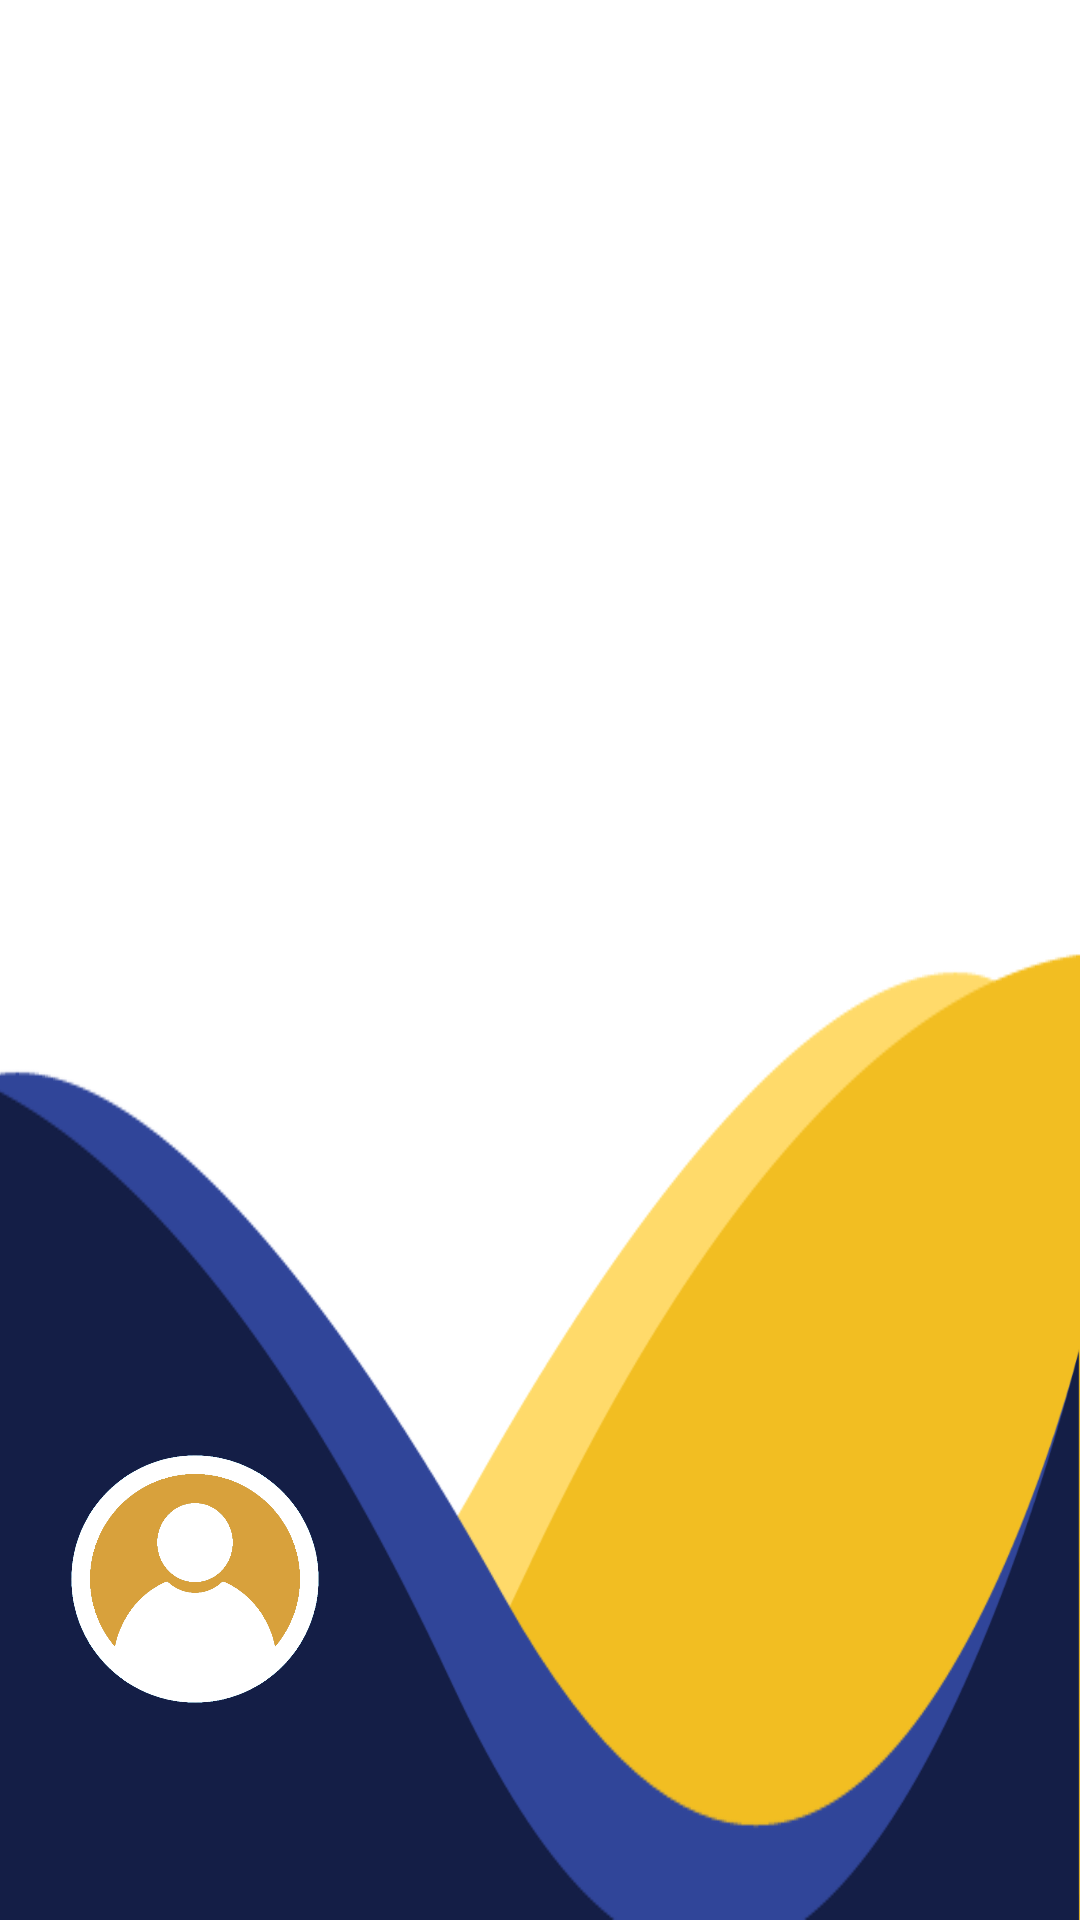

Icon click points for this 1080px x 1920px phone screenshot, format [x,y]:
userprofile: [195,1579]
